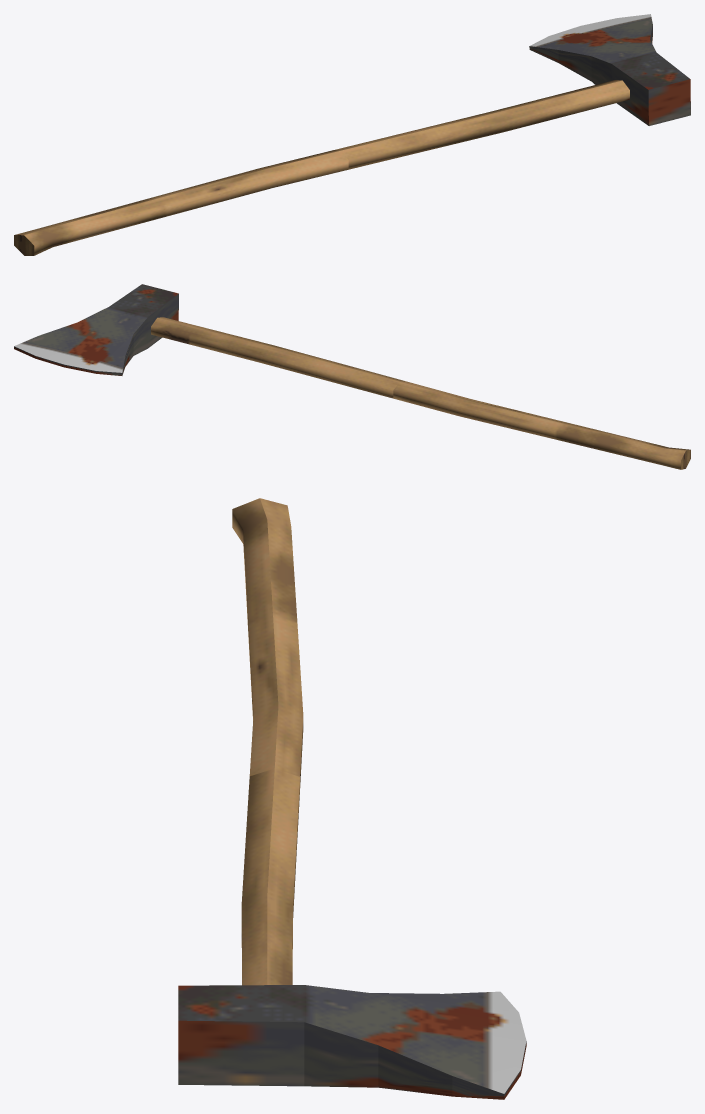
Rendered from axe.obj.
3 renders of one model, top to bottom at view 1: azimuth 30°, elevation 25°; view 2: azimuth 150°, elevation 25°; view 3: azimuth 270°, elevation 25°, orthographic. The views are drawn at different scales.
Parts seen in each view (by area): view 1: axe; view 2: axe; view 3: axe.
Part boxes in pixels (<box>): axe: <box>14,14,690,255</box>; axe: <box>14,284,690,469</box>; axe: <box>178,498,526,1099</box>.
Bounding box in the file's own units: 0.7644 × 0.0386 × 0.188.
Materials: 1 (1 with a texture image).
